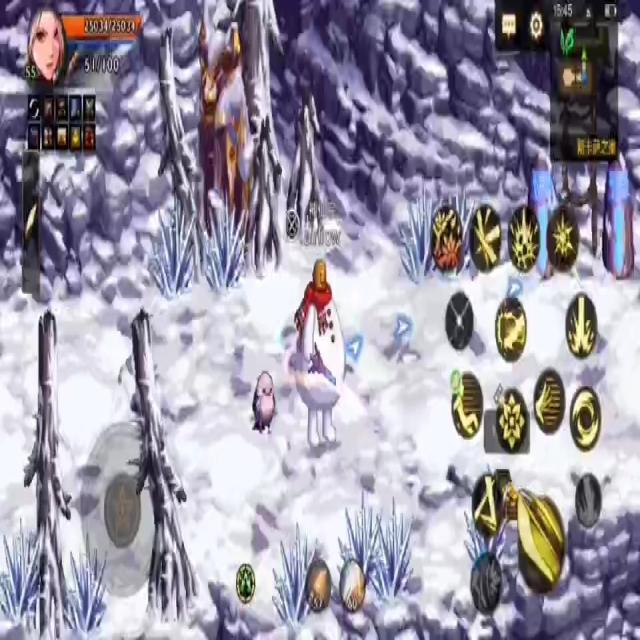player: (292, 248, 341, 454)
